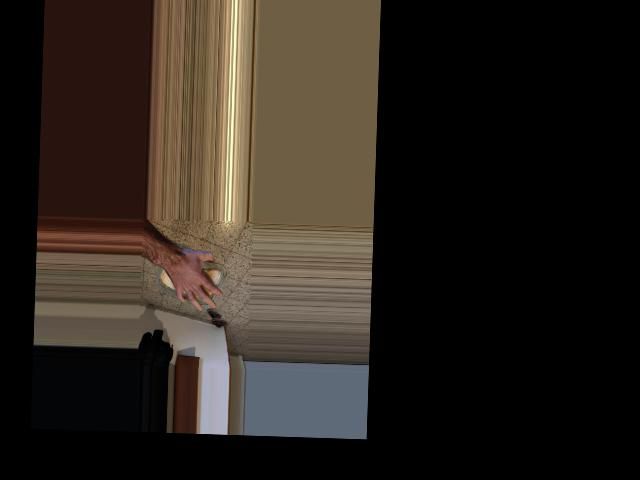cheese: (157, 243, 225, 309)
